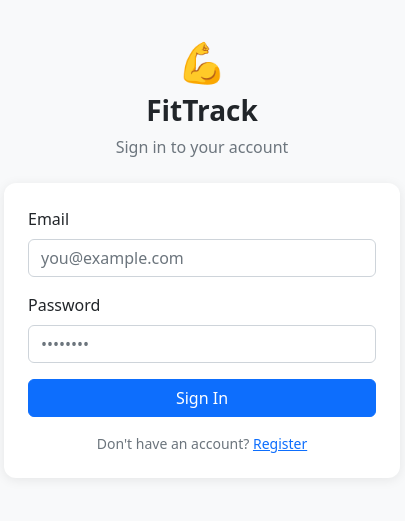
Test case: Login Component › shows validation error when email field is empty and form is submitted
The width and height of the screenshot is (405, 521).
Click the button "Sign In" at {"x": 202, "y": 398}, box [28, 379, 376, 417]
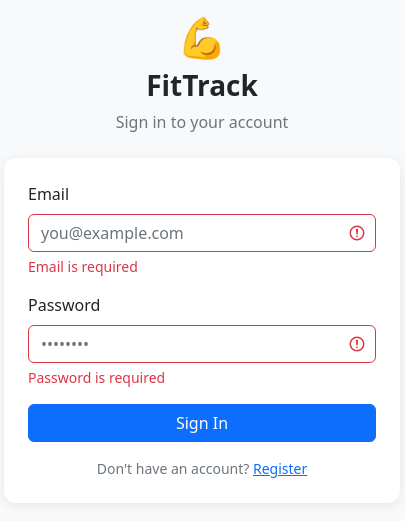
Expected: the text "Email is required" is shown, [28, 257, 138, 276]
